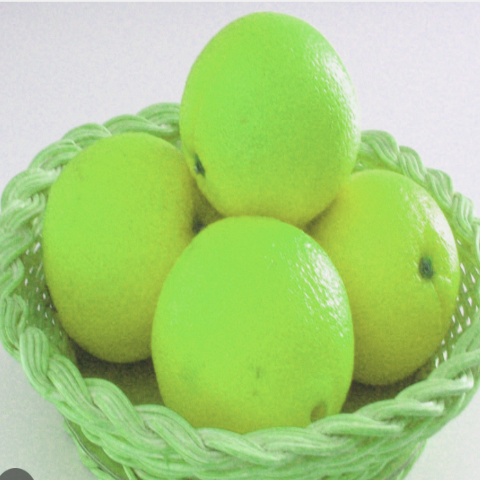orange: (145, 192, 369, 467), (21, 126, 216, 357), (168, 0, 360, 210), (298, 159, 476, 353)
